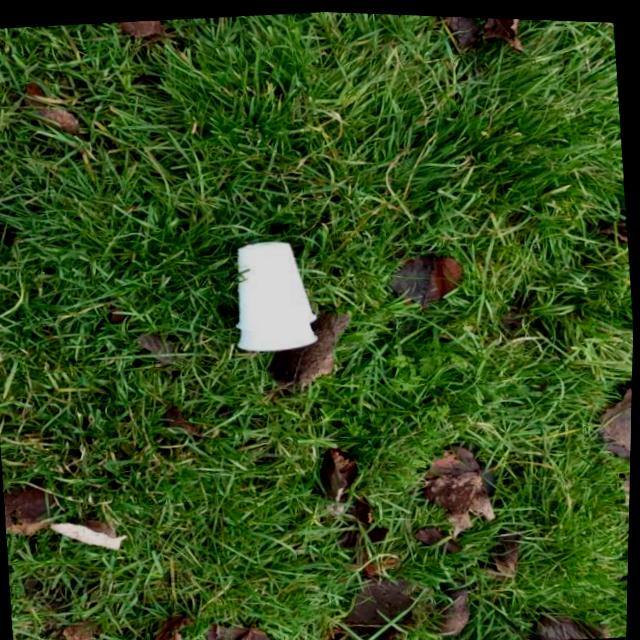Cup: (222, 223, 325, 362)
